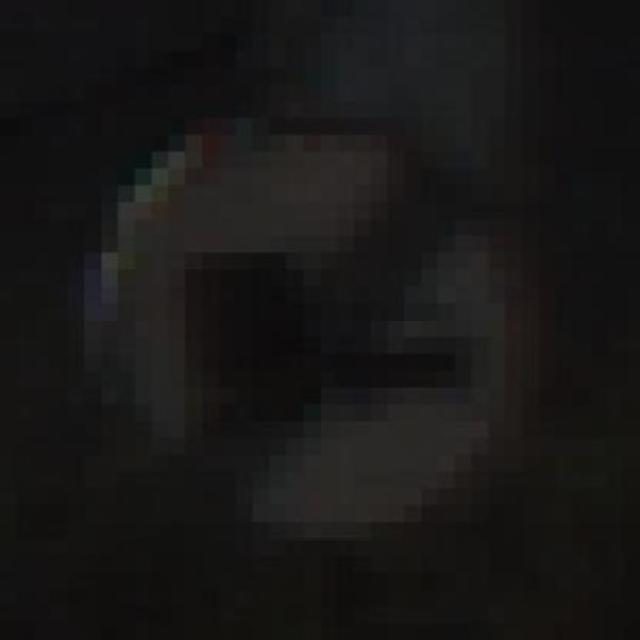Overtaking by trucks is prohibited: (50, 84, 607, 573)
